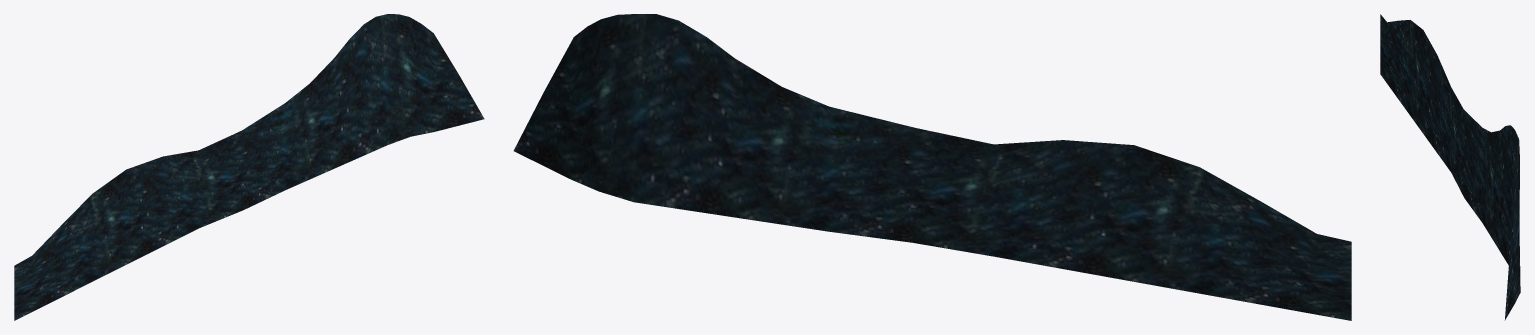
Rendered from shan8.fbx.
3 views of the same model, side by side, from view 1: azimuth 30°, elevation 25°; view 2: azimuth 150°, elevation 25°; view 3: azimuth 270°, elevation 25° (orthographic). The views are drawn at different scales.
Visible parts, largest first — view 1: shan8; view 2: shan8; view 3: shan8.
Part boxes in pixels (x1=…): shan8: x1=14, y1=14, x2=484, y2=320; shan8: x1=513, y1=14, x2=1351, y2=320; shan8: x1=1380, y1=14, x2=1520, y2=320.
Bounding box in the file's own units: 21.89 × 6.18 × 4.62.
